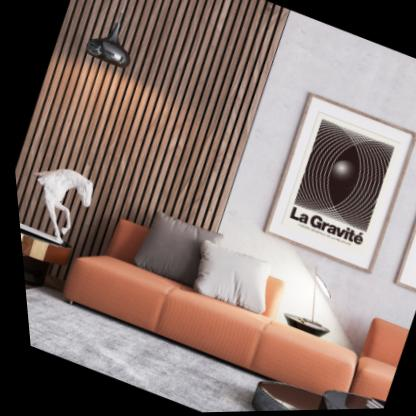Sofa: (38, 184, 381, 416)
Wall Panel: (0, 0, 310, 264)
